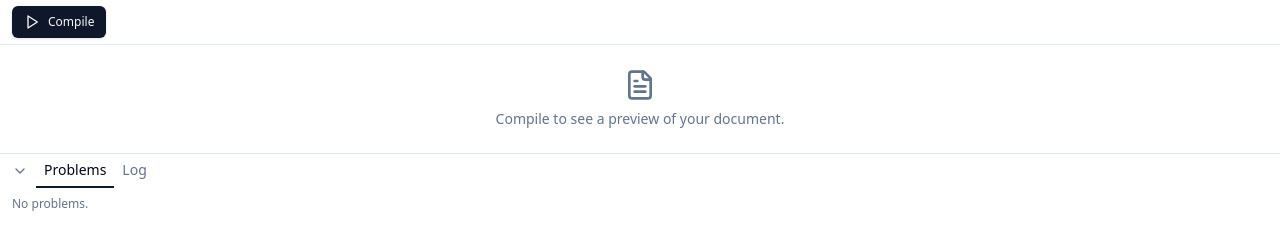
Test: PreviewPane (integration) › cancels an active compile
What coordinates should you click on to do the following:
click the button with aria-label "Compile project"
I would click on:
 (59, 22)
Its box is left=12, top=6, right=106, bottom=38.
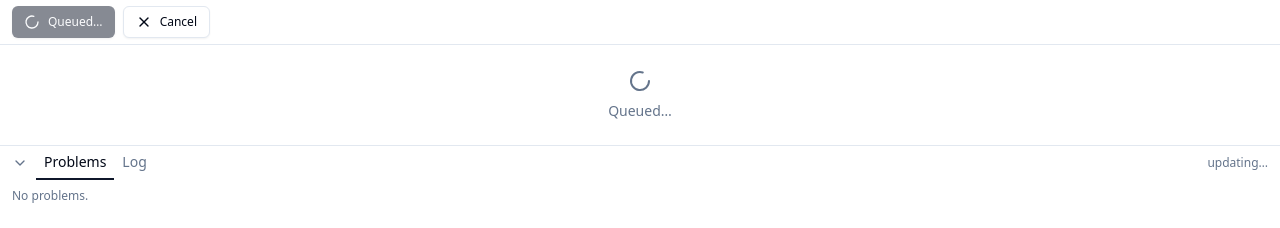
What coordinates should you click on to do the following:
click the button with aria-label "Cancel compilation"
I would click on:
 (166, 22)
Its box is left=123, top=6, right=210, bottom=38.
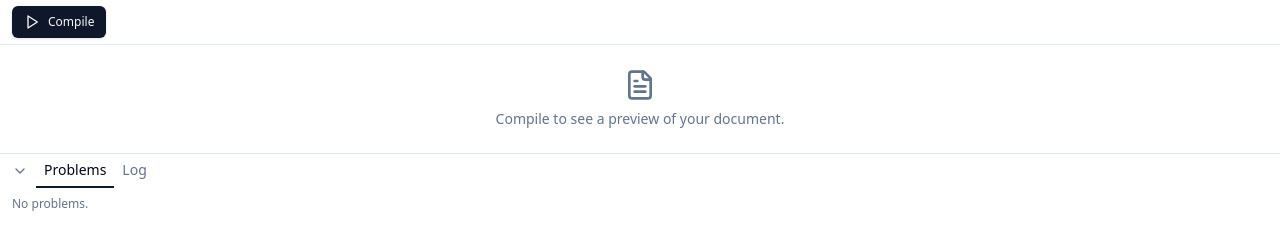
Expected: the button with aria-label "Compile project" is shown, left=12, top=6, right=106, bottom=38
